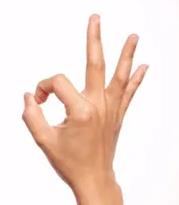left: (19, 13, 151, 184)
